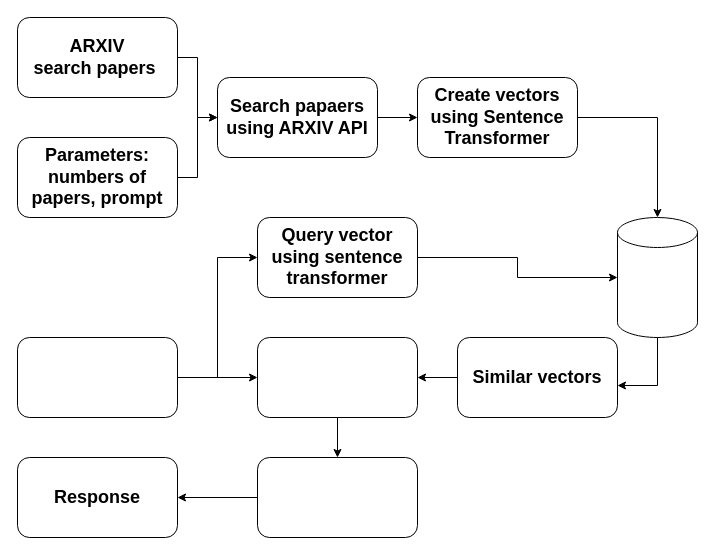
Some shapes in this 715 by 555 pixel diagram are drawn without their labels. Each missing label, with the centre of its shape:
ChatGPT (3.5 or 4): point (337, 497)
Prompt + Context + Chat history + Query: point (337, 377)
Query + Chat history: point (97, 377)
Vector DB: point (657, 277)
